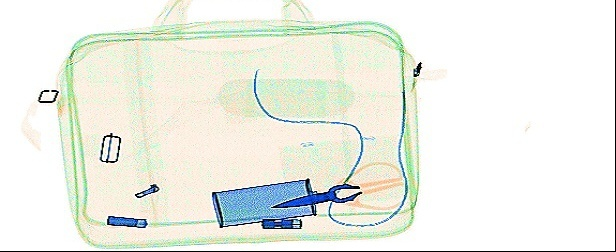scissors: (269, 158, 409, 212)
zippooil: (211, 176, 318, 228)
